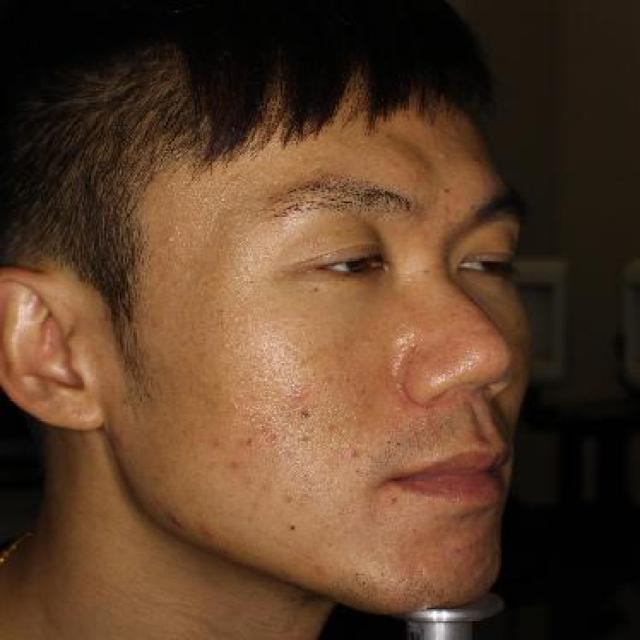dark spot: (255, 425, 317, 457), (205, 431, 238, 480), (342, 437, 368, 465)
whiteheads: (260, 294, 286, 304), (293, 388, 308, 404)
